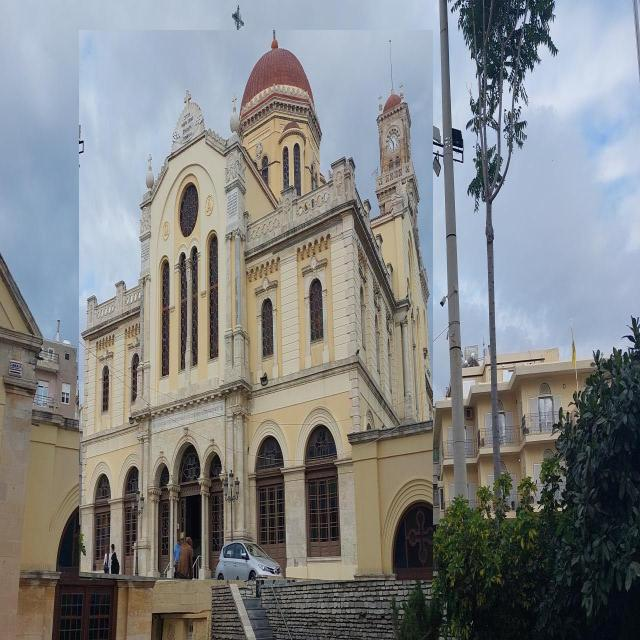Agios Minas: (80, 31, 434, 581)
